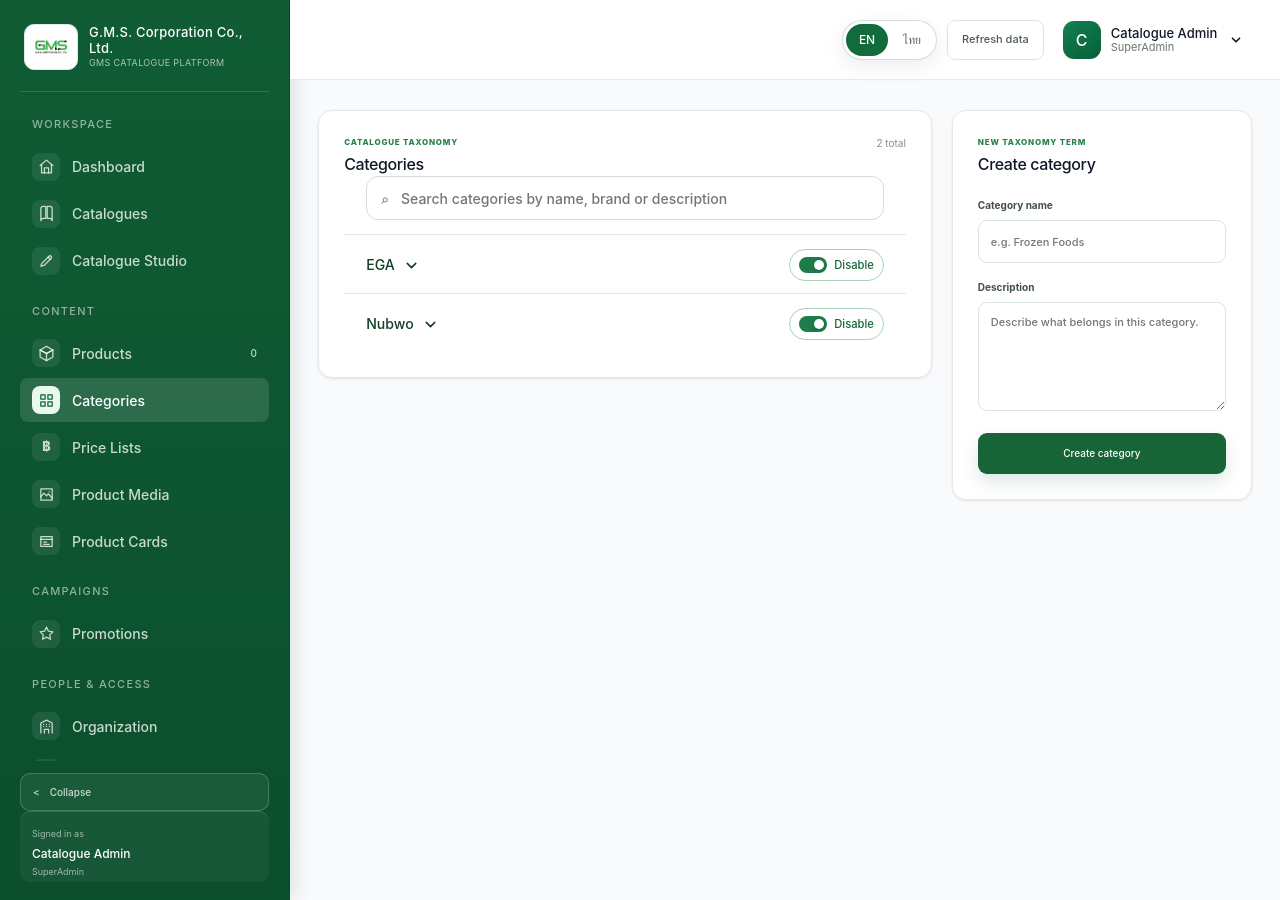
Scenario: category management › shows every brand as a collapsed dropdown and reveals its categories on demand
This screenshot has width=1280, height=900.
What coordinates should you click on to do the following:
click the button with aria-label "EGA categories"
I would click on:
 (397, 265)
Its box is [366, 247, 428, 283].
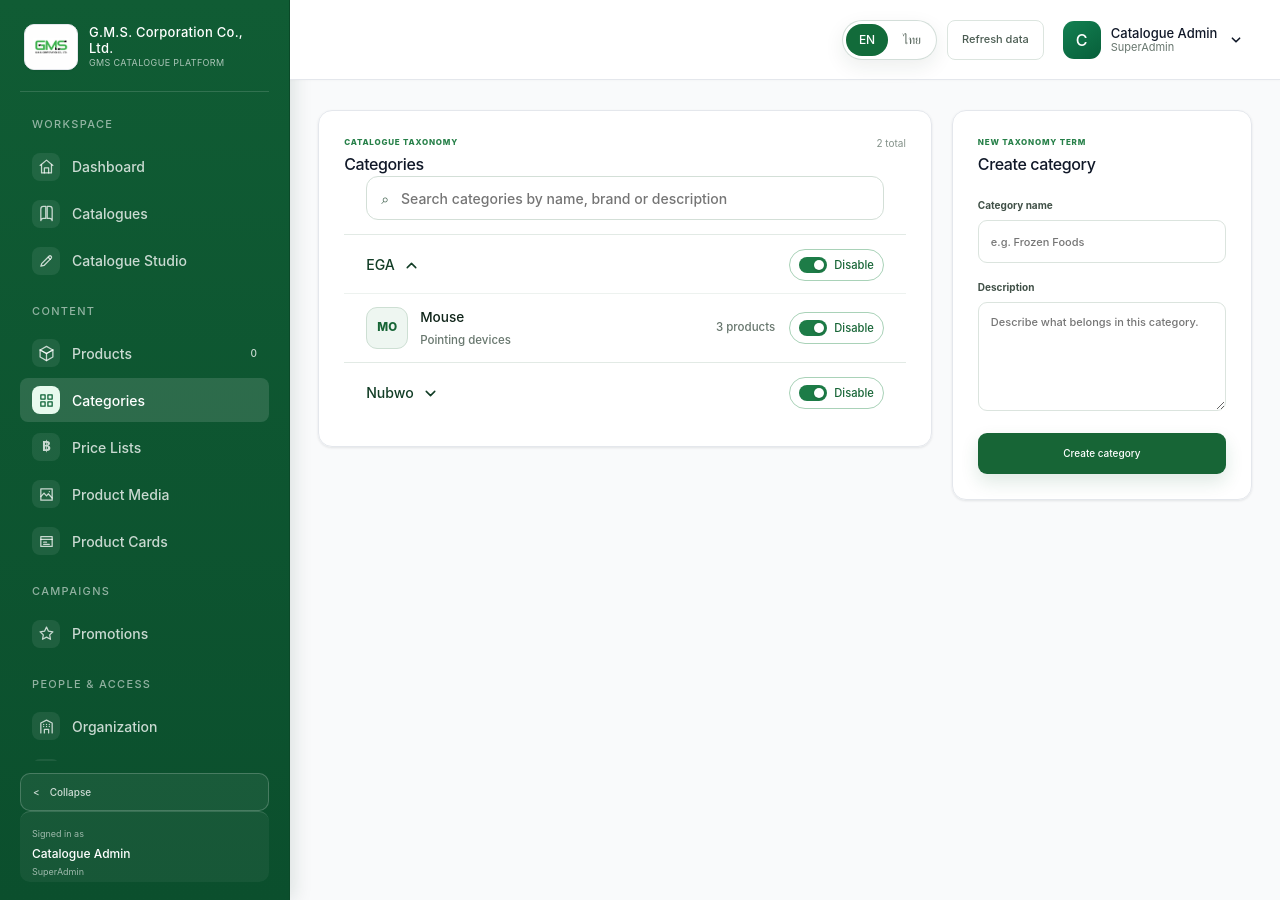
Now the button with aria-label "EGA categories" is expanded
Now the button with aria-label "Open Mouse product list for EGA" is shown, box [366, 294, 775, 362]
What coordinates should you click on to do the following:
click the button with aria-label "EGA categories"
I would click on:
 (397, 265)
Its box is [366, 247, 428, 283].
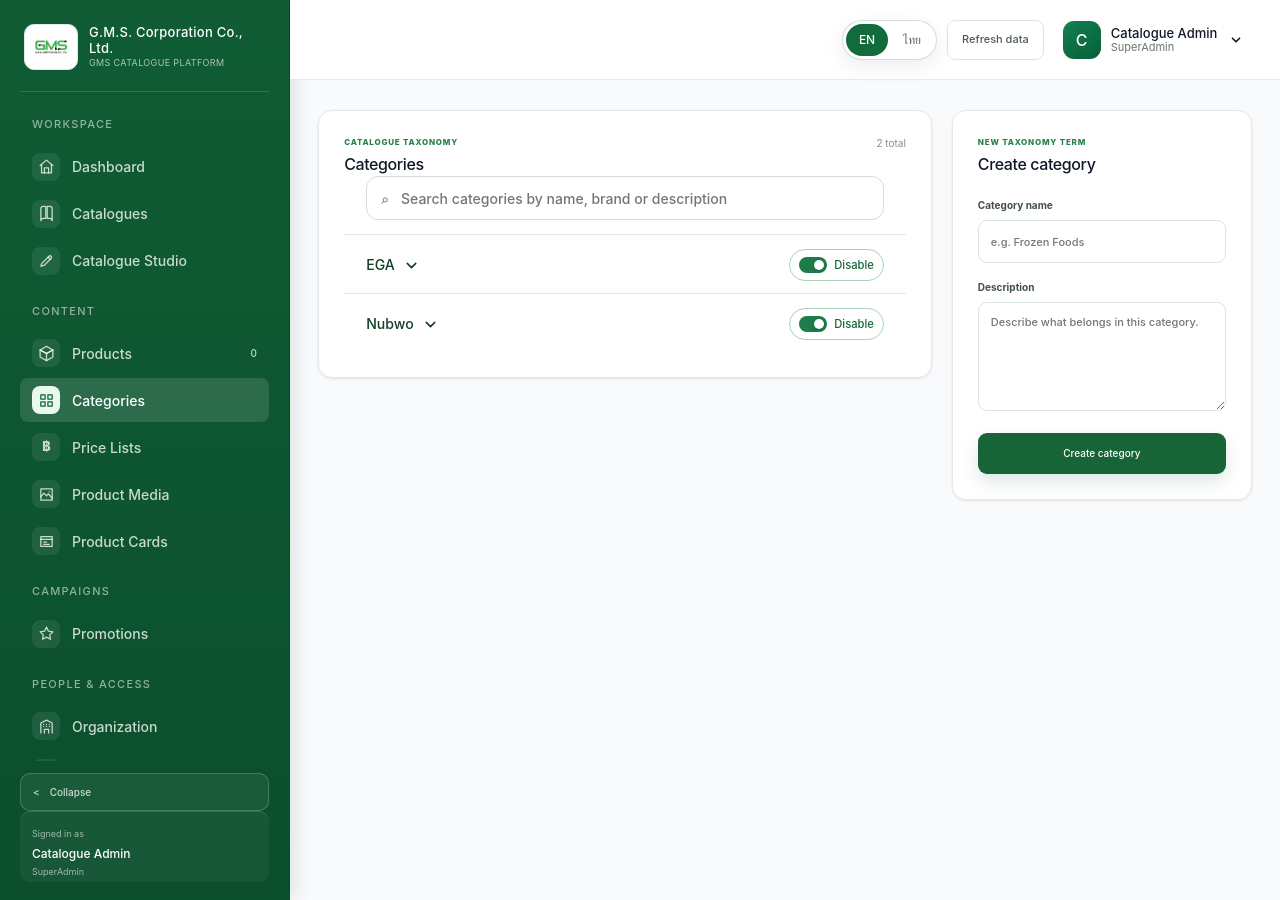
Now the button with aria-label "EGA categories" is collapsed, box [366, 247, 428, 283]
